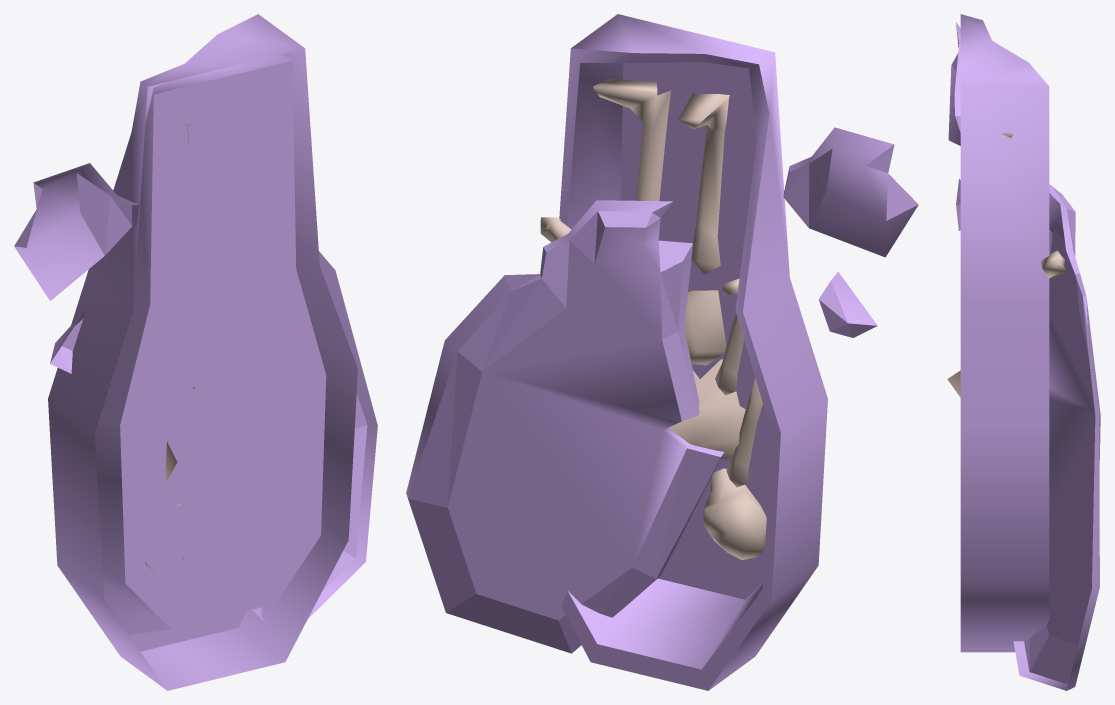
3 views of the same model, side by side, from view 1: azimuth 30°, elevation 25°; view 2: azimuth 150°, elevation 25°; view 3: azimuth 270°, elevation 25° (orthographic). The views are drawn at different scales.
Parts seen in each view (by area): view 1: Object93; view 2: Object93; view 3: Object93.
Boxes of the visible parts, x1,y1,x2,y2 form: Object93: (14,14,377,690); Object93: (406,14,918,690); Object93: (947,14,1100,690).
Size of the model in its own units: 16207 by 21835 by 5206.
